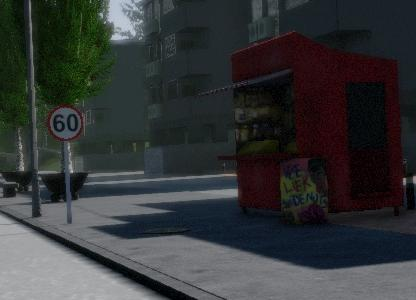Speed_60: (126, 91, 168, 136)
